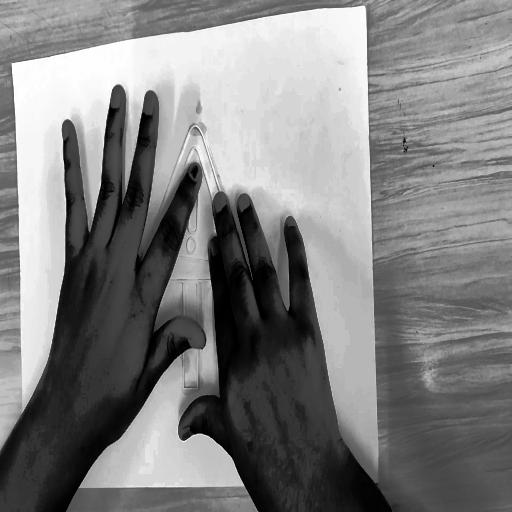bottom_left: (22, 475, 31, 499)
bottom_right: (372, 471, 381, 488)
signboard: (133, 109, 262, 411)
top_left: (9, 57, 15, 72)
top_right: (359, 2, 371, 16)
